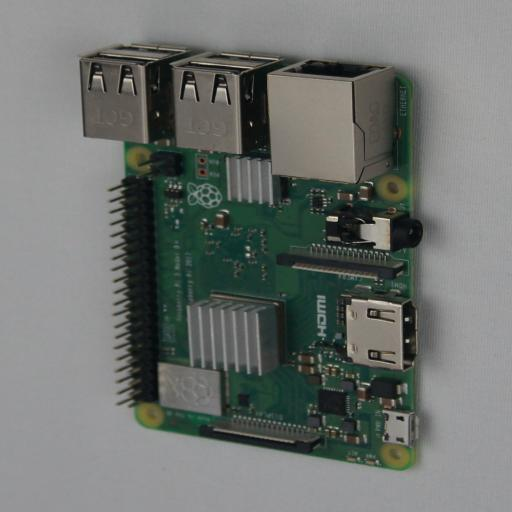Raspberry Pi 3 B-: (80, 43, 434, 470)
